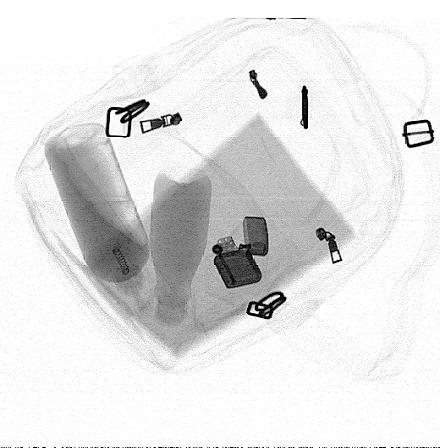Lighter: (211, 216, 269, 289)
